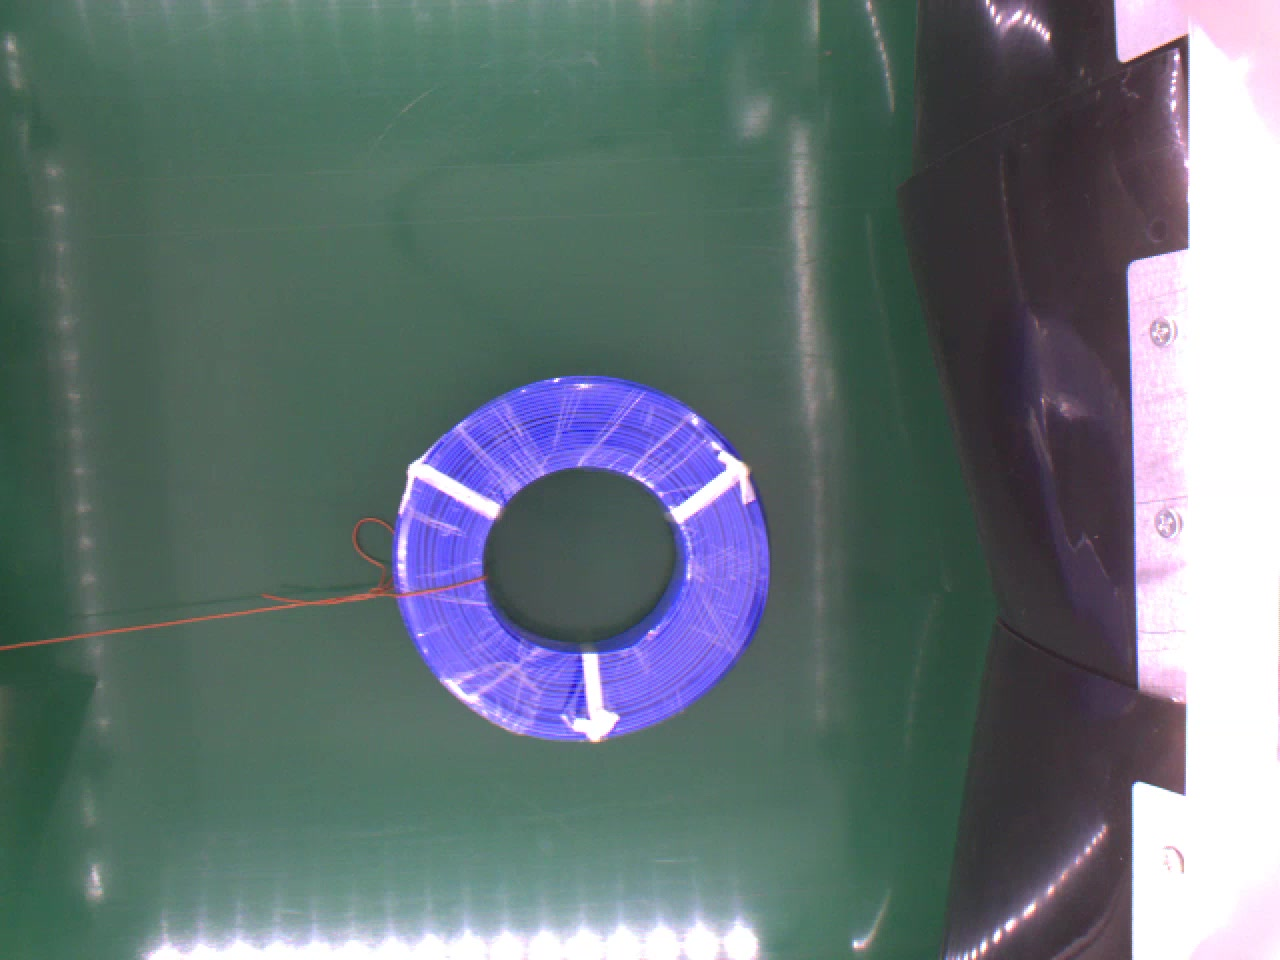blue: (395, 369, 776, 737)
